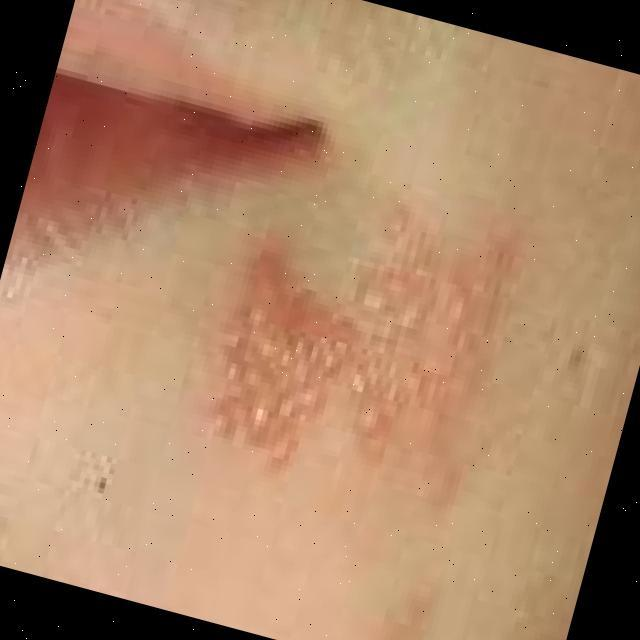Shingles: (208, 234, 493, 462)
